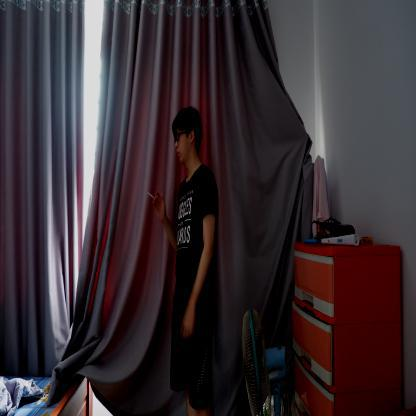cigarette: (147, 192, 155, 200)
person: (156, 105, 221, 415)
